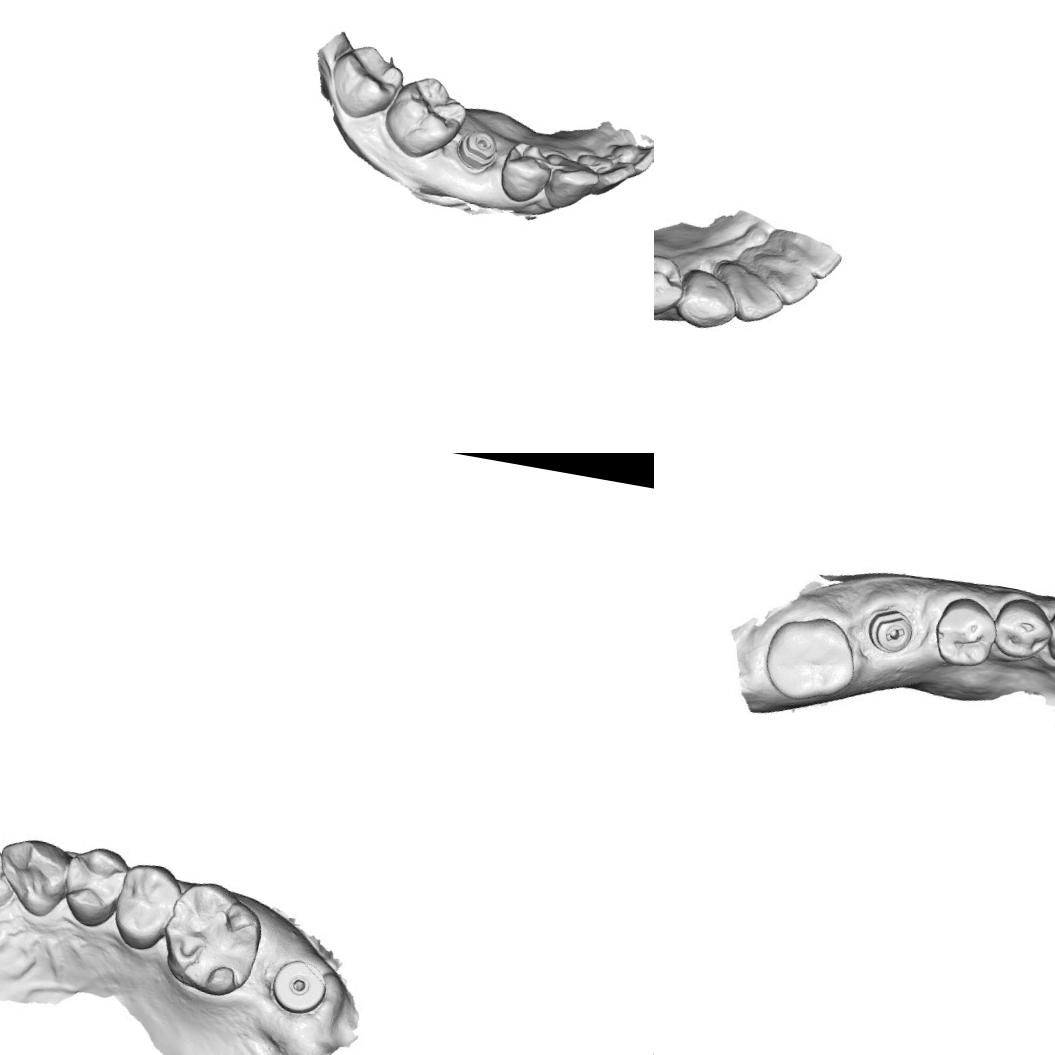canine: (0, 829, 80, 923), (672, 262, 742, 335), (536, 149, 602, 215)
implant: (260, 945, 339, 1030), (450, 125, 500, 176)
implant_minus: (861, 601, 918, 659)
incisor: (748, 243, 824, 311), (714, 258, 786, 326), (771, 228, 844, 282), (572, 151, 638, 201), (607, 137, 654, 176), (0, 830, 17, 912)
molar: (153, 876, 270, 1003), (756, 606, 864, 711), (378, 69, 471, 164), (324, 39, 408, 124)
premolar: (110, 858, 187, 957), (61, 841, 133, 928), (928, 591, 1002, 672), (987, 592, 1055, 664), (495, 138, 555, 208), (654, 250, 682, 322)
